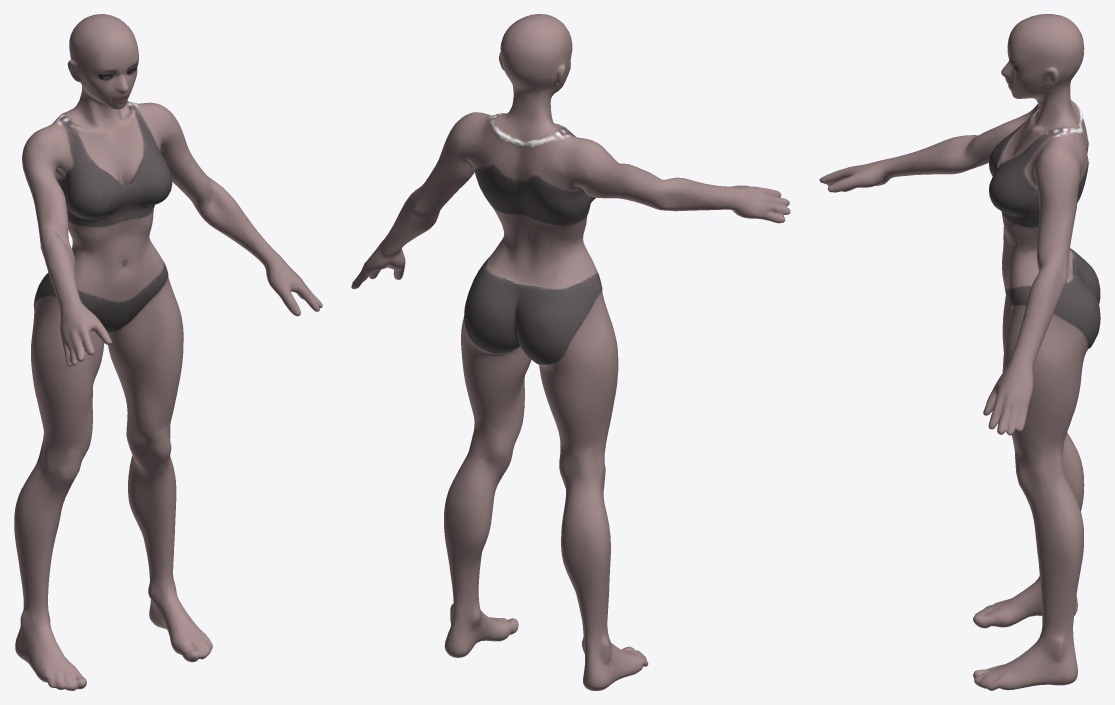
Rendered from legacy-UpperArmL-45.glb.
The picture shows the model from 3 angles, left to right: view 1: azimuth 30°, elevation 25°; view 2: azimuth 150°, elevation 25°; view 3: azimuth 270°, elevation 25°; orthographic projection. The views are drawn at different scales.
Visible parts, largest first — view 1: legacy-UpperArmL-45; view 2: legacy-UpperArmL-45; view 3: legacy-UpperArmL-45.
Part boxes in pixels (x1,y1,x2,y2): legacy-UpperArmL-45: (14, 14, 322, 690); legacy-UpperArmL-45: (351, 14, 790, 690); legacy-UpperArmL-45: (819, 14, 1100, 690).
Bounding box in the file's own units: 0.5559 × 1 × 0.4008.
Materials: 1 (1 with a texture image).
